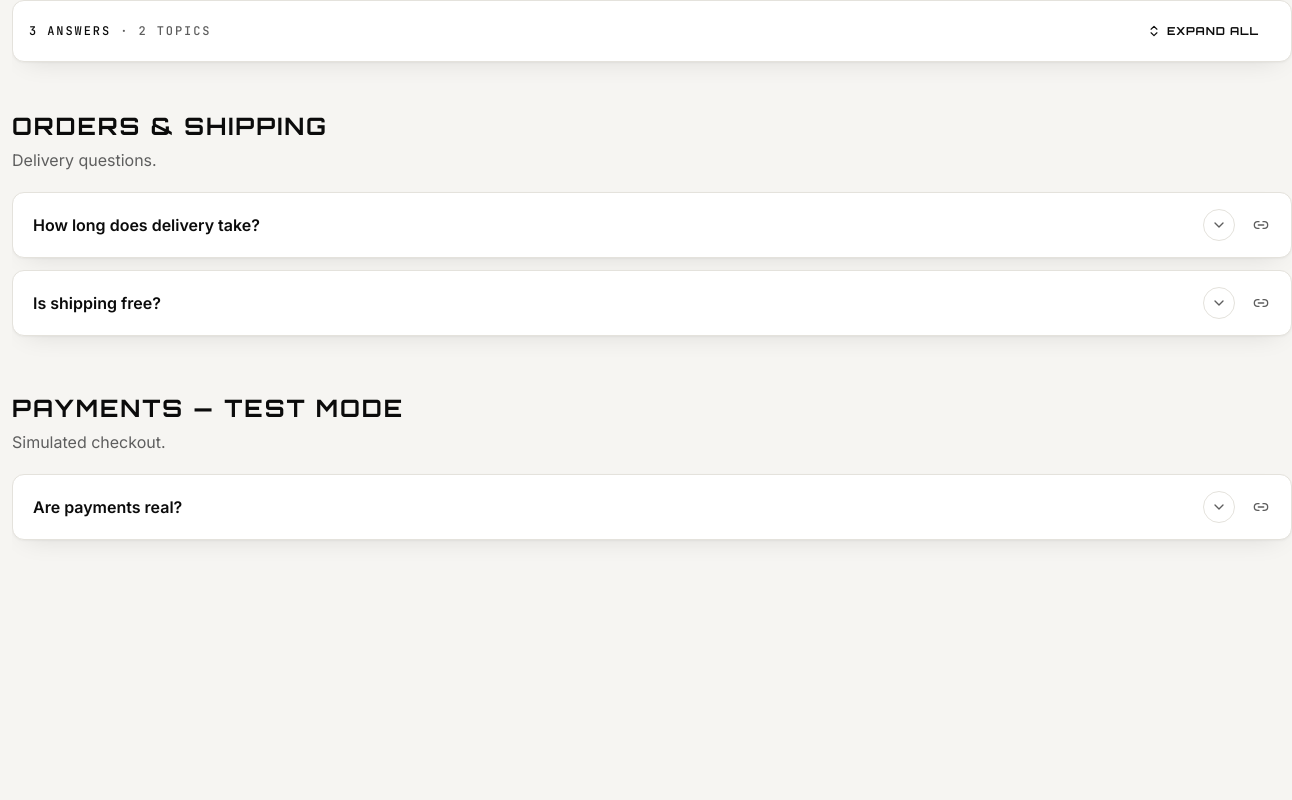
Test: FaqBoard (WAI-ARIA accordion) › toggles a panel with click, Enter and Space
Click the button "Is shipping free?": (97, 303) [13,271,1243,335]
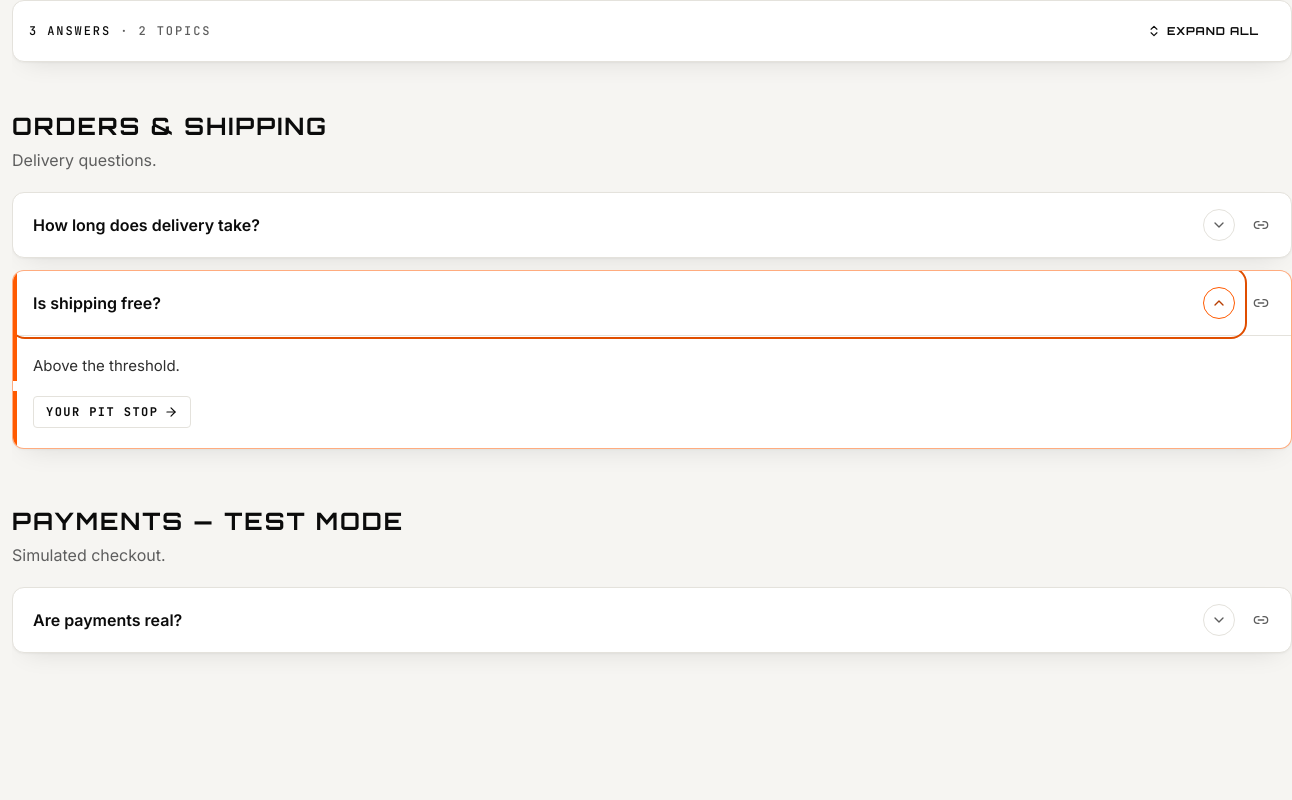
Result: the button "Is shipping free?" is expanded at [13,271,1243,335]
Result: the element named "Is shipping free?" is shown at [13,335,1291,448]
Result: the text "Above the threshold." is shown at [33,356,180,375]
Press Enter
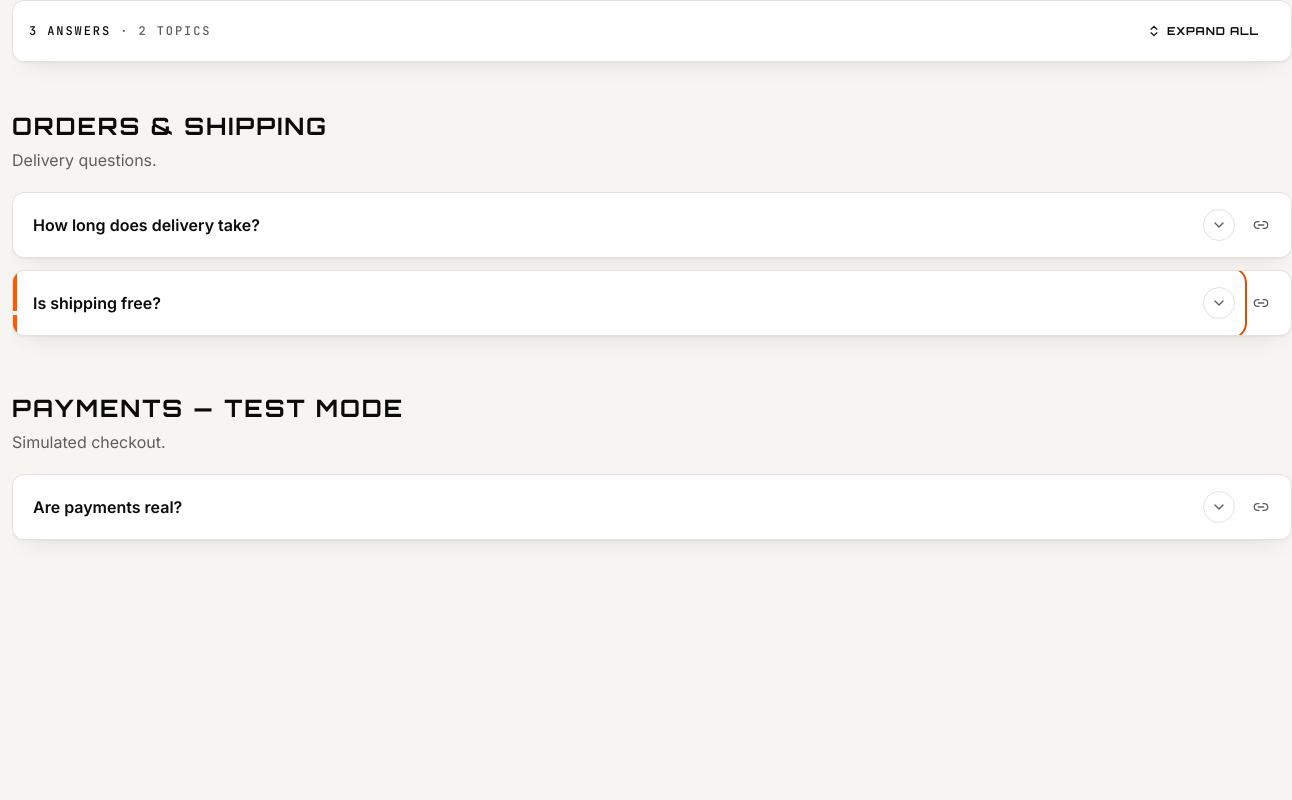
Result: the button "Is shipping free?" is collapsed at [13,271,1243,335]
Type keys " "
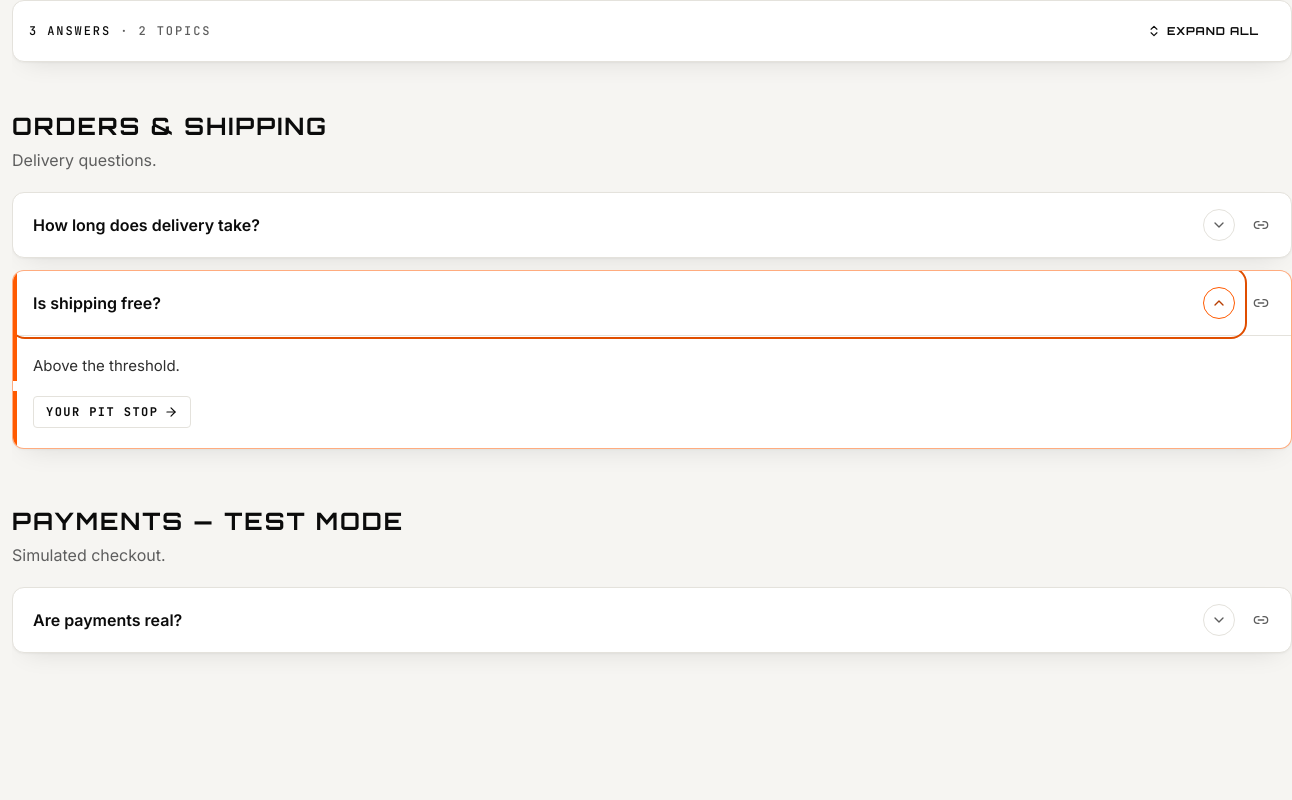
Result: the button "Is shipping free?" is expanded at [13,271,1243,335]
